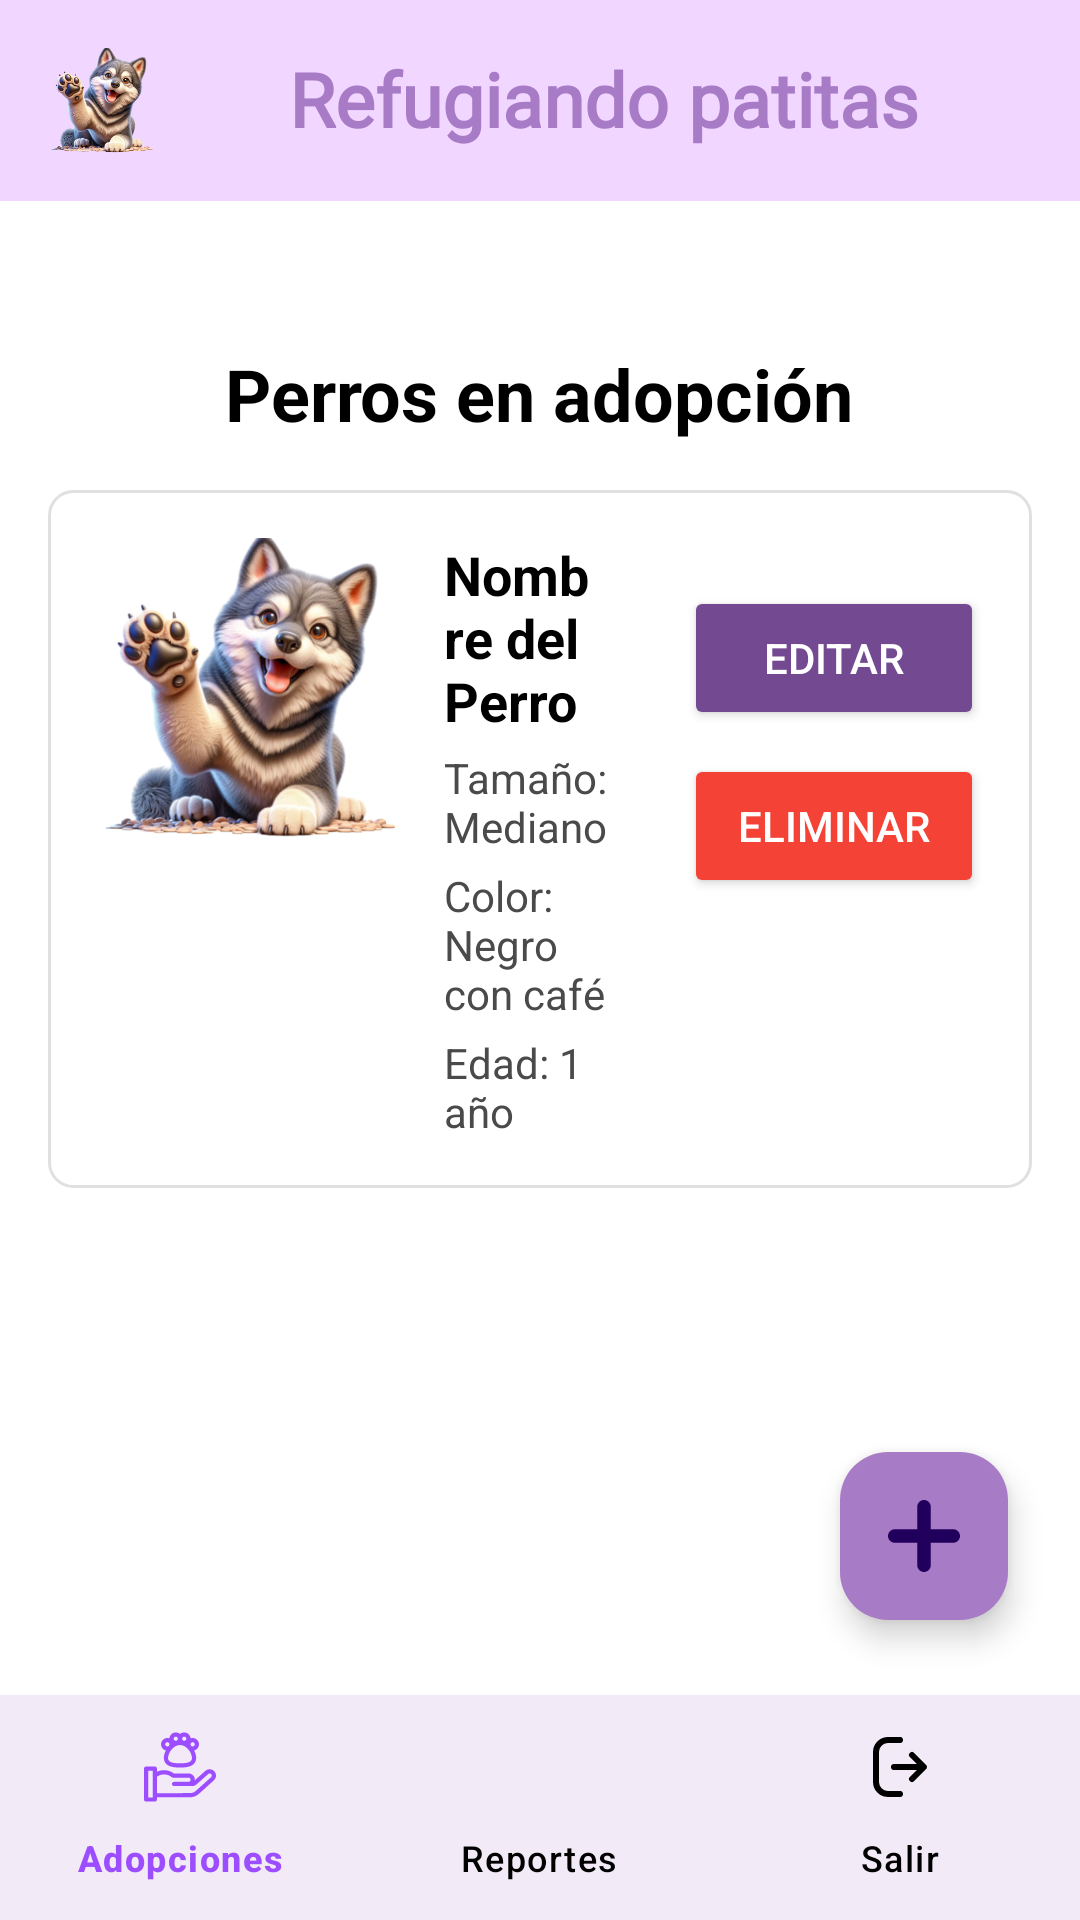

Icon bounding boxes for this 1080 x 1920 phone screenshot, format detection(x1, y1, x2, y2):
Agregar: detection(840, 1452, 1008, 1620)
